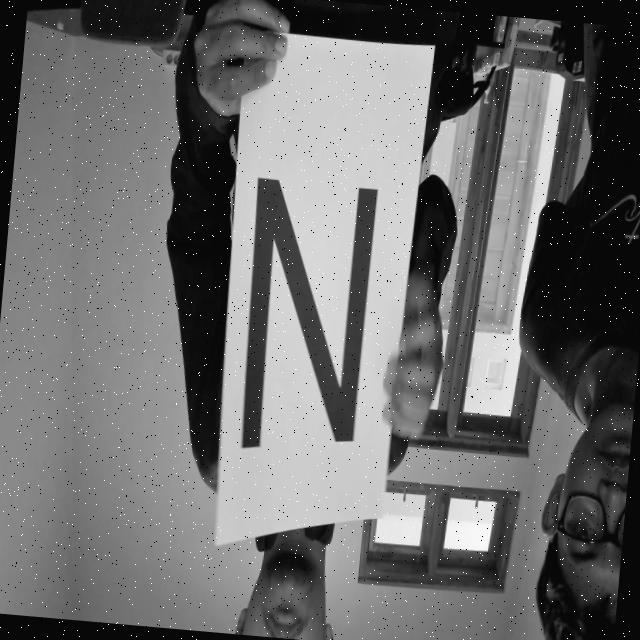n: (216, 140, 394, 472)
